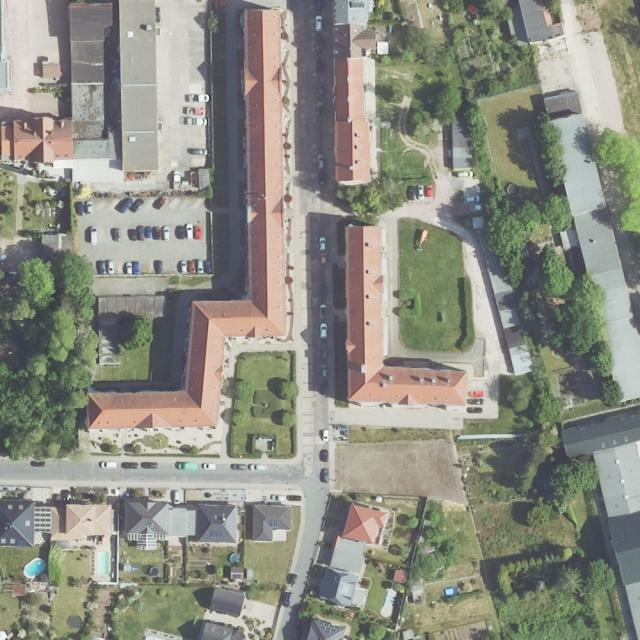PV: (34, 506, 51, 533), (318, 621, 343, 634)
ST: (210, 529, 223, 537), (18, 540, 25, 547)
